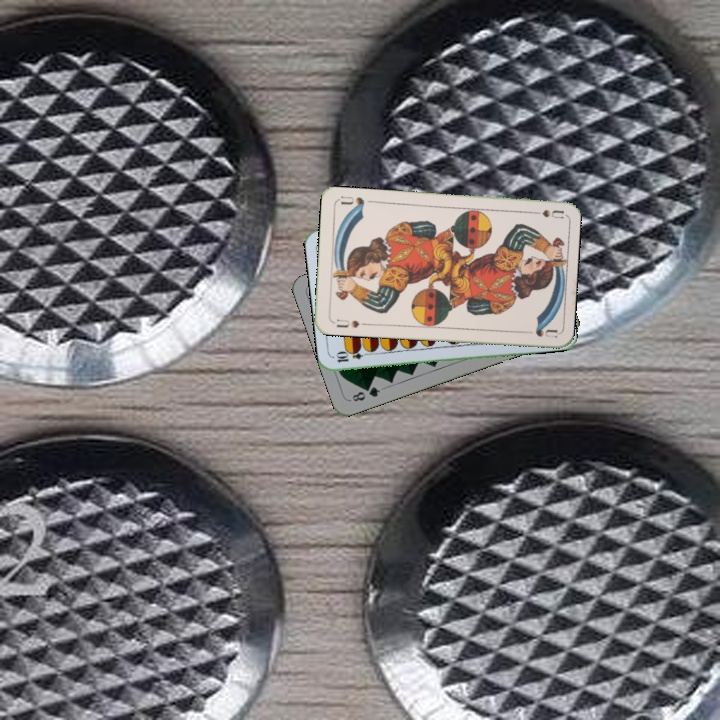E10: (332, 347, 373, 365)
G8: (348, 383, 383, 404)
SU: (524, 205, 565, 221), (332, 315, 369, 330)
